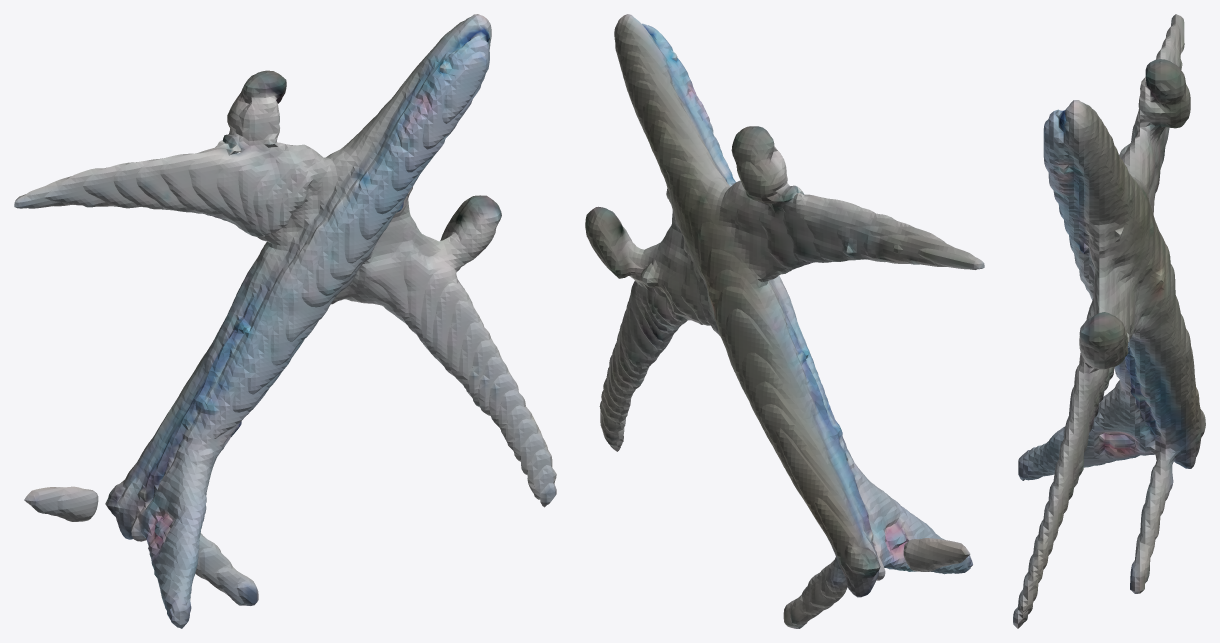
Rendered from 000016_plane_flight_jet.glb.
3 renders of one model, left to right at view 1: azimuth 30°, elevation 25°; view 2: azimuth 150°, elevation 25°; view 3: azimuth 270°, elevation 25°, orthographic. The views are drawn at different scales.
Visible parts, largest first — view 1: world; view 2: world; view 3: world.
Part boxes in pixels (left/top/right/bottom): world: left=14, top=14, right=556, bottom=628; world: left=585, top=14, right=984, bottom=628; world: left=1013, top=14, right=1205, bottom=628.
Bounding box in the file's own units: 0.7657 × 0.8773 × 0.2586.
